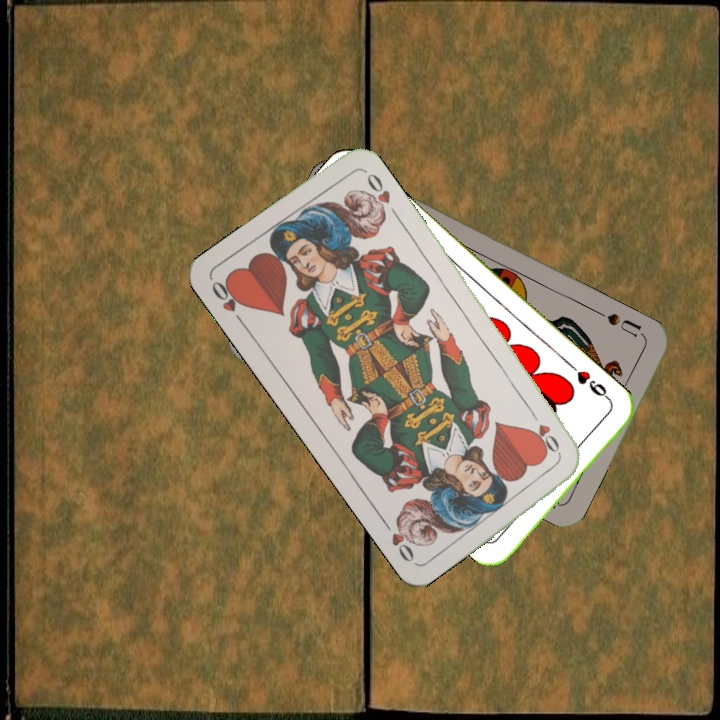H9: (566, 360, 615, 405)
HO: (207, 276, 247, 328), (525, 405, 564, 458)
SU: (593, 307, 648, 341)
